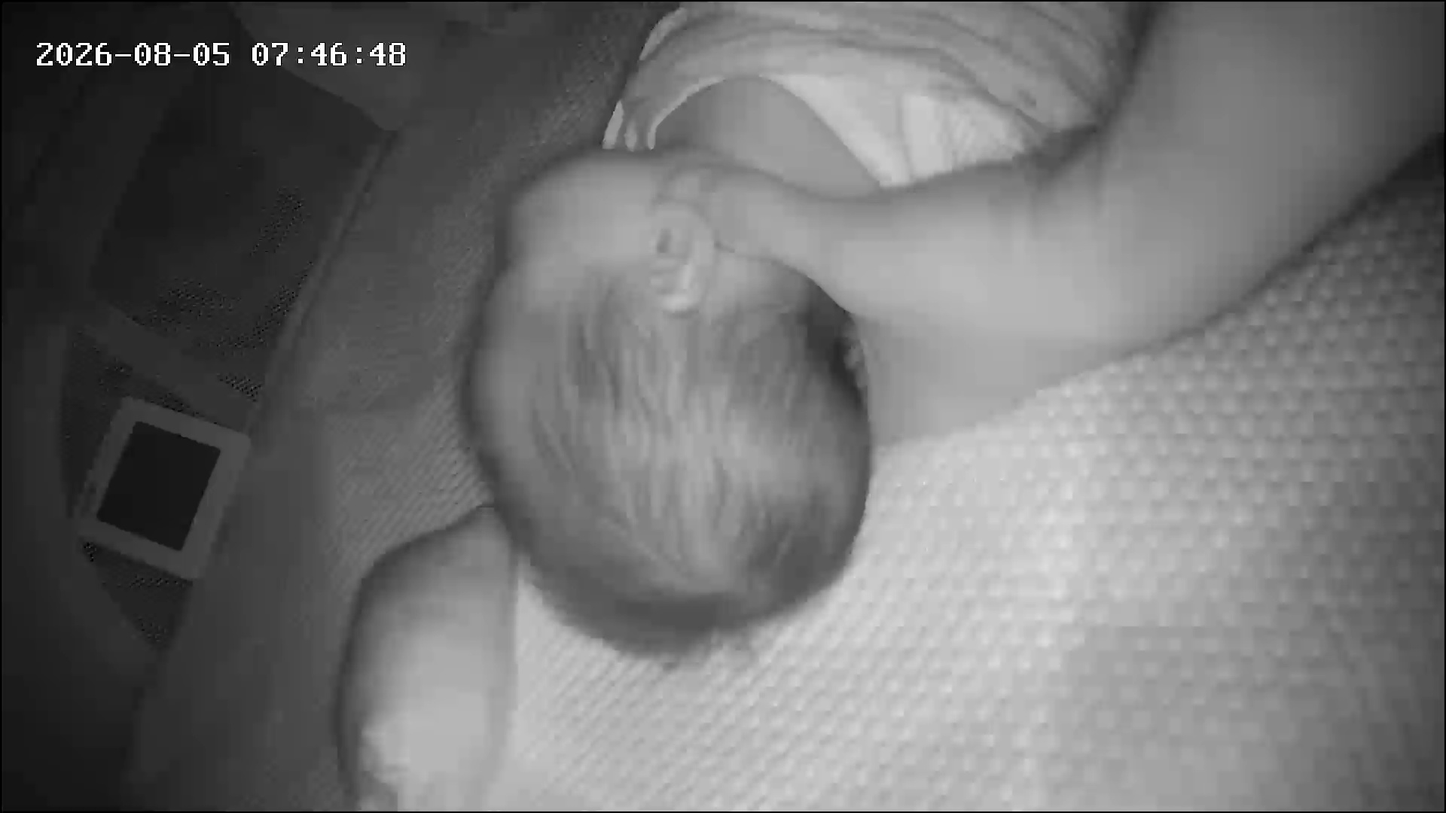baby: (338, 0, 1412, 662), (177, 0, 1175, 661), (0, 0, 894, 663)
baby_face: (451, 128, 890, 648)
